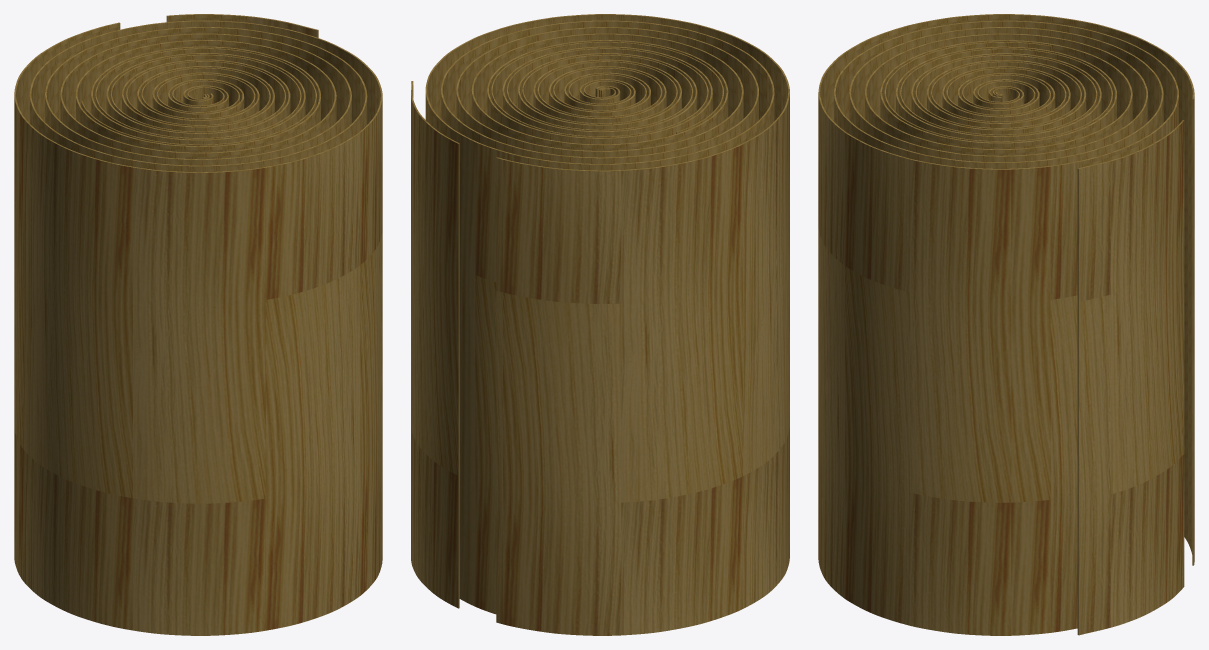
The model's file is CornSpiral.glb.
3 renders of one model, left to right at view 1: azimuth 30°, elevation 25°; view 2: azimuth 150°, elevation 25°; view 3: azimuth 270°, elevation 25°, orthographic.
Visible parts, largest first — view 1: Spiral.002; view 2: Spiral.002; view 3: Spiral.002.
Part boxes in pixels (bbox=[...]): Spiral.002: bbox=[14, 14, 382, 635]; Spiral.002: bbox=[411, 14, 789, 635]; Spiral.002: bbox=[818, 14, 1194, 635].
Size of the model in its own units: 0.9128 by 1.28 by 0.9321.
1 material, 1 textured.
